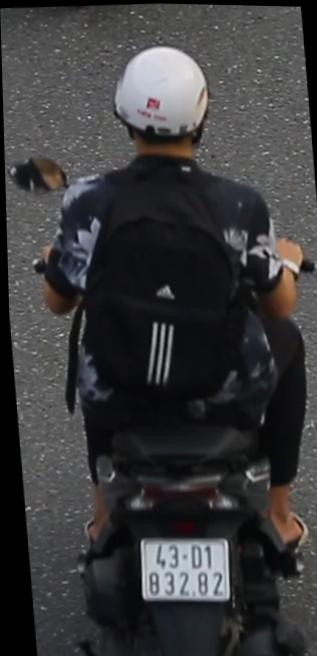LP: (130, 527, 233, 610)
helmet: (103, 33, 217, 174)
